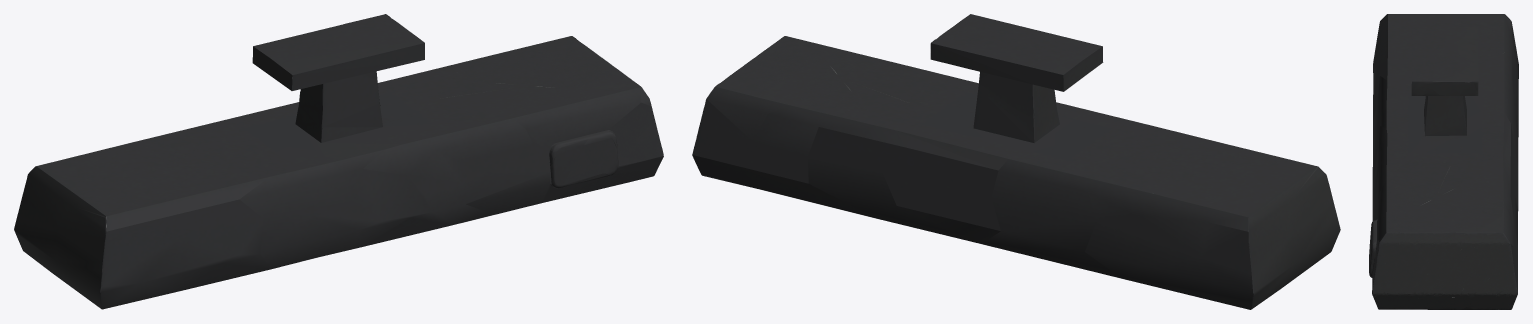
File: ceiling_light.glb
3 views of the same model, side by side, from view 1: azimuth 30°, elevation 25°; view 2: azimuth 150°, elevation 25°; view 3: azimuth 270°, elevation 25° (orthographic). The views are drawn at different scales.
Parts seen in each view (by area): view 1: output_unwrapped; view 2: output_unwrapped; view 3: output_unwrapped.
Part boxes in pixels (x1,y1,x2,y2): output_unwrapped: (14, 14, 663, 309); output_unwrapped: (692, 14, 1340, 309); output_unwrapped: (1369, 14, 1518, 309).
Size of the model in its own units: 1.9 by 0.5475 by 0.5207.
Materials: 1 (1 with a texture image).
